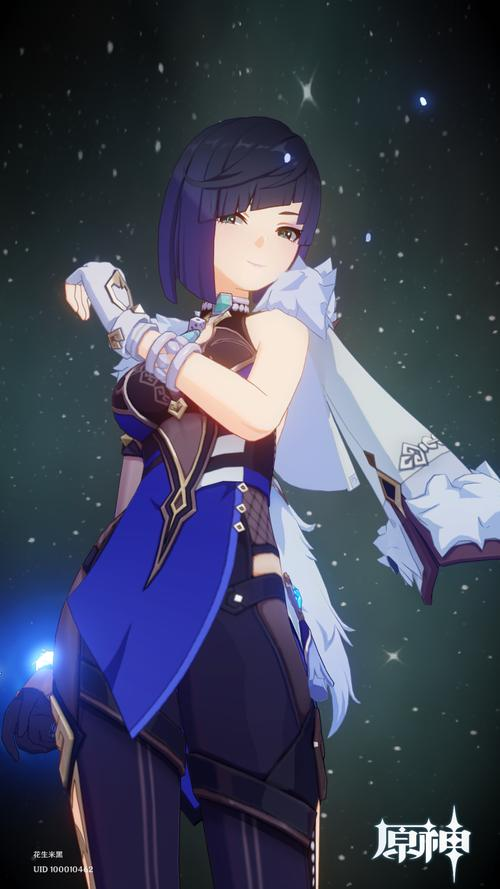夜兰: (10, 113, 329, 889)
